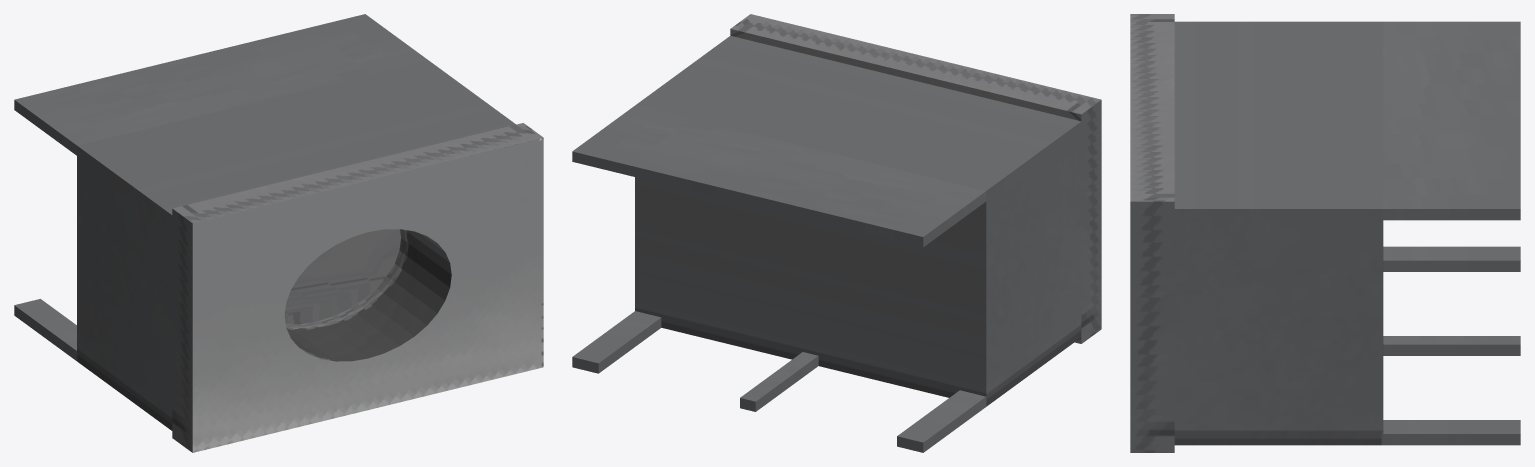
The model's file is pz_counter_steel_floor__sink_inset_oval.obj.
The picture shows the model from 3 angles, left to right: view 1: azimuth 30°, elevation 25°; view 2: azimuth 150°, elevation 25°; view 3: azimuth 270°, elevation 25°; orthographic projection. The views are drawn at different scales.
Size of the model in its own units: 1 by 0.625 by 0.88.
Materials: 1 (1 with a texture image).
